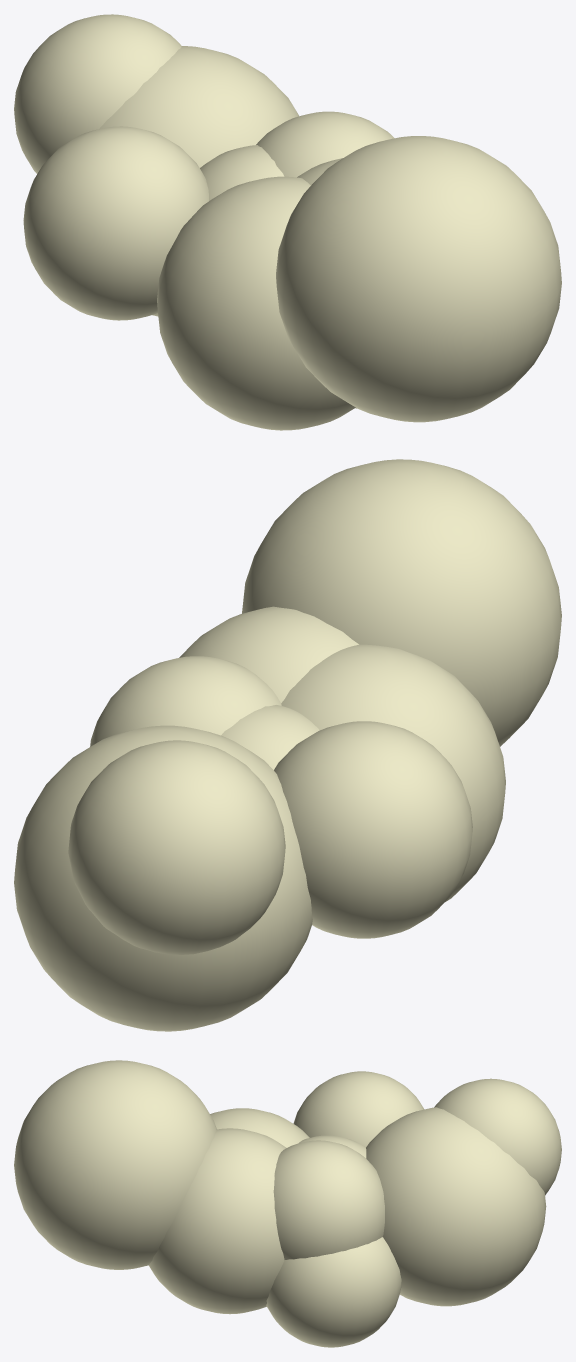
Rendered from Cloud.fbx.
3 renders of one model, top to bottom at view 1: azimuth 30°, elevation 25°; view 2: azimuth 150°, elevation 25°; view 3: azimuth 270°, elevation 25°, orthographic. The views are drawn at different scales.
Parts seen in each view (by area): view 1: Sphere; view 2: Sphere; view 3: Sphere.
Part boxes in pixels (x1=…): Sphere: x1=14, y1=14, x2=561, y2=430; Sphere: x1=14, y1=459, x2=561, y2=1031; Sphere: x1=14, y1=1060, x2=561, y2=1347.
Bounding box in the file's own units: 223 × 196 × 394.
